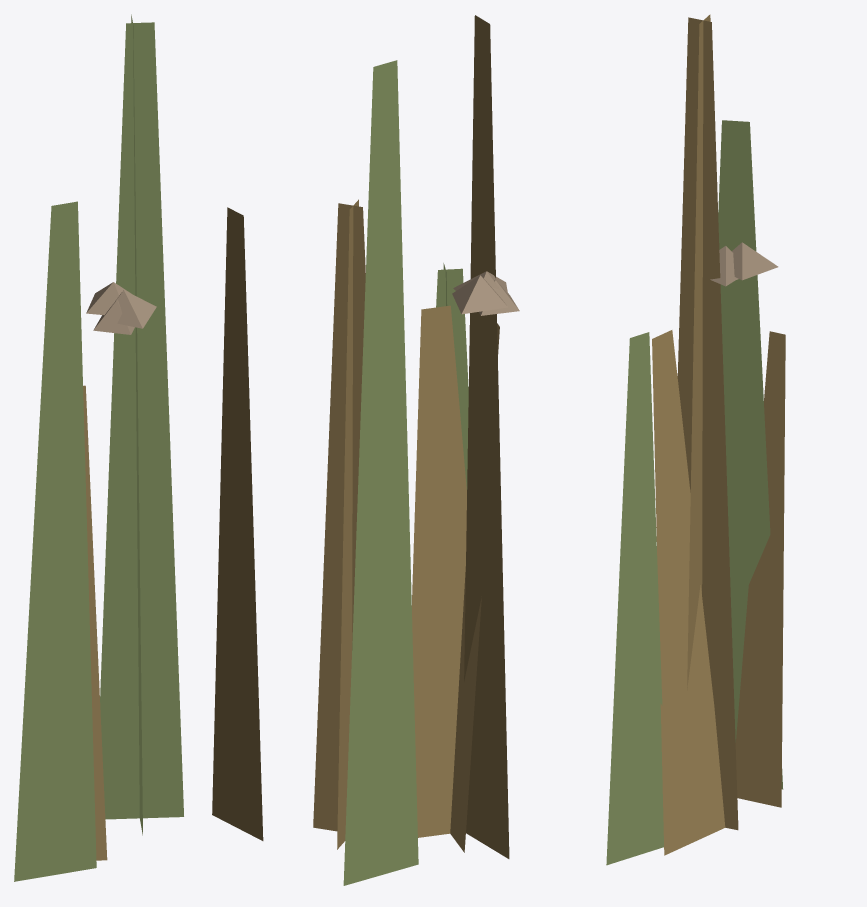
File: water.sub.reed_cattail__autumn.glb
3 renders of one model, left to right at view 1: azimuth 30°, elevation 25°; view 2: azimuth 150°, elevation 25°; view 3: azimuth 270°, elevation 25°, orthographic. The views are drawn at different scales.
Visible parts, largest first — view 1: water.sub.reed_cattail__autumn; view 2: water.sub.reed_cattail__autumn; view 3: water.sub.reed_cattail__autumn.
Boxes of the visible parts, x1,y1,x2,y2 form: water.sub.reed_cattail__autumn: (14,14,263,881); water.sub.reed_cattail__autumn: (313,15,519,885); water.sub.reed_cattail__autumn: (606,14,785,865).
Bounding box in the file's own units: 0.7483 × 2.25 × 0.6248.
